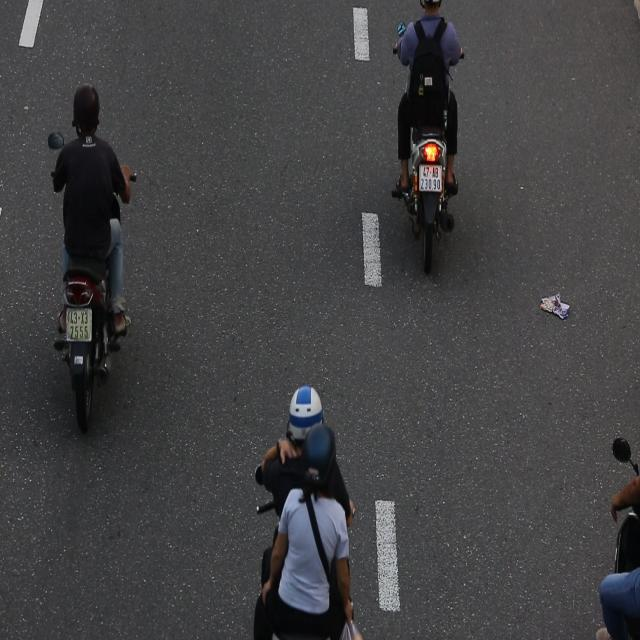motorbike: (36, 78, 140, 446)
